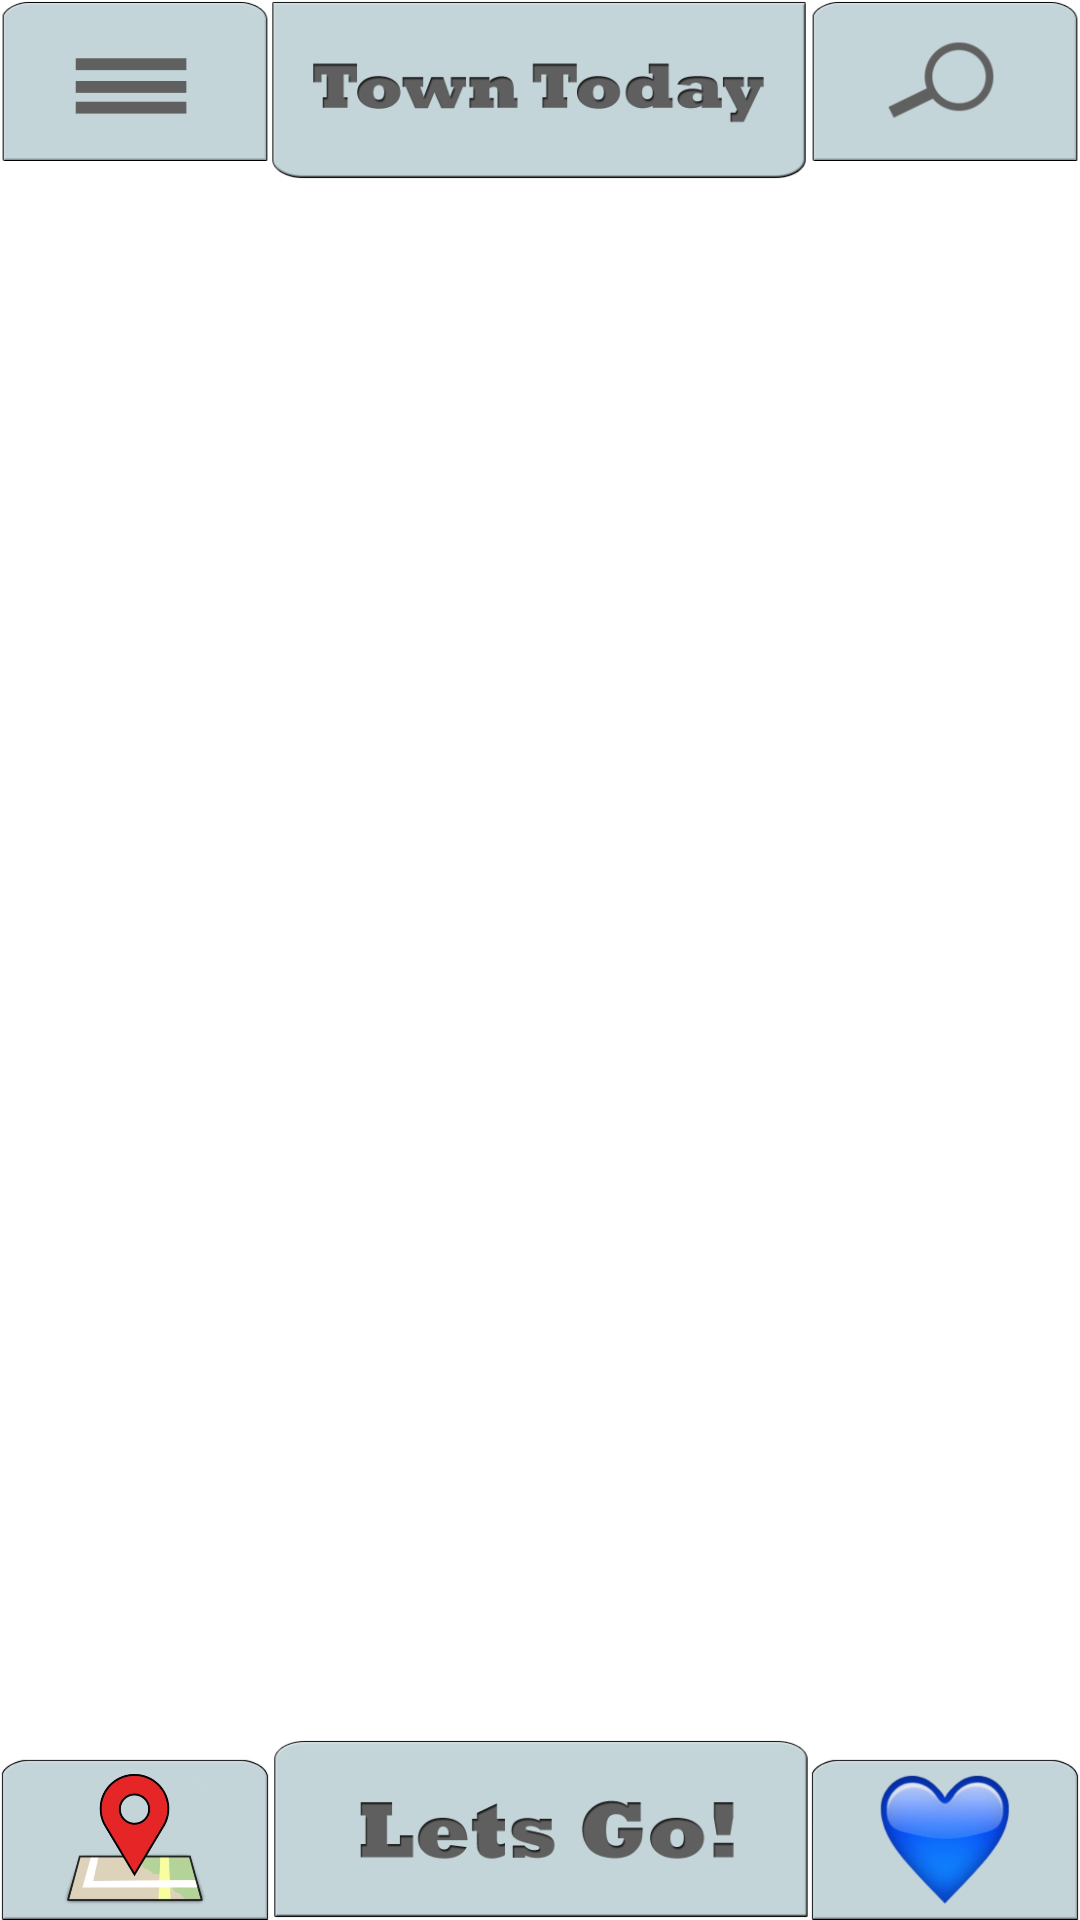

Screen size 1080x1920. Icon name, then its box in pixels as bbox(x1, y1, x2, y2):
blueheart: bbox(812, 1760, 1078, 1920)
bottommap: bbox(2, 1760, 268, 1920)
